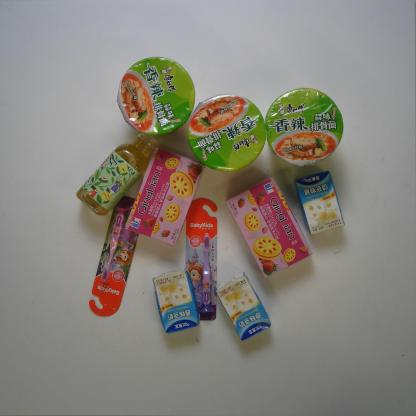Dessert: (226, 180, 318, 282), (126, 144, 215, 247)
Drink: (73, 132, 156, 217)
Instant Noodles: (184, 92, 270, 178), (266, 85, 350, 168), (115, 57, 196, 137)
Milk: (287, 164, 352, 244), (213, 274, 283, 344), (147, 272, 202, 332)
Personal Hygiene: (177, 196, 238, 328), (85, 191, 147, 318)
